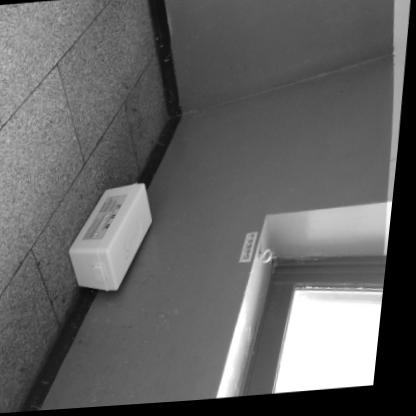DDL: (68, 183, 161, 296)
